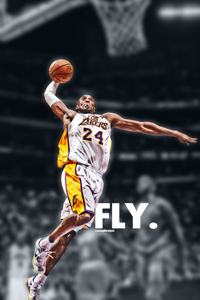ball: (48, 59, 73, 83)
